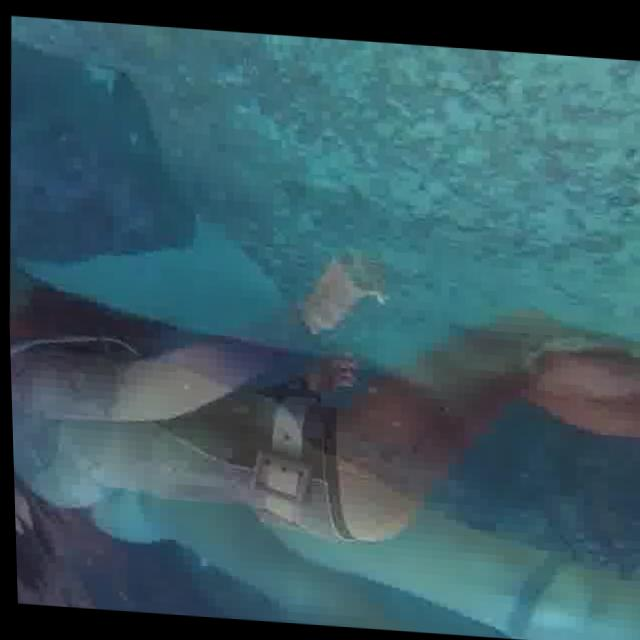human: (4, 176, 640, 640)
